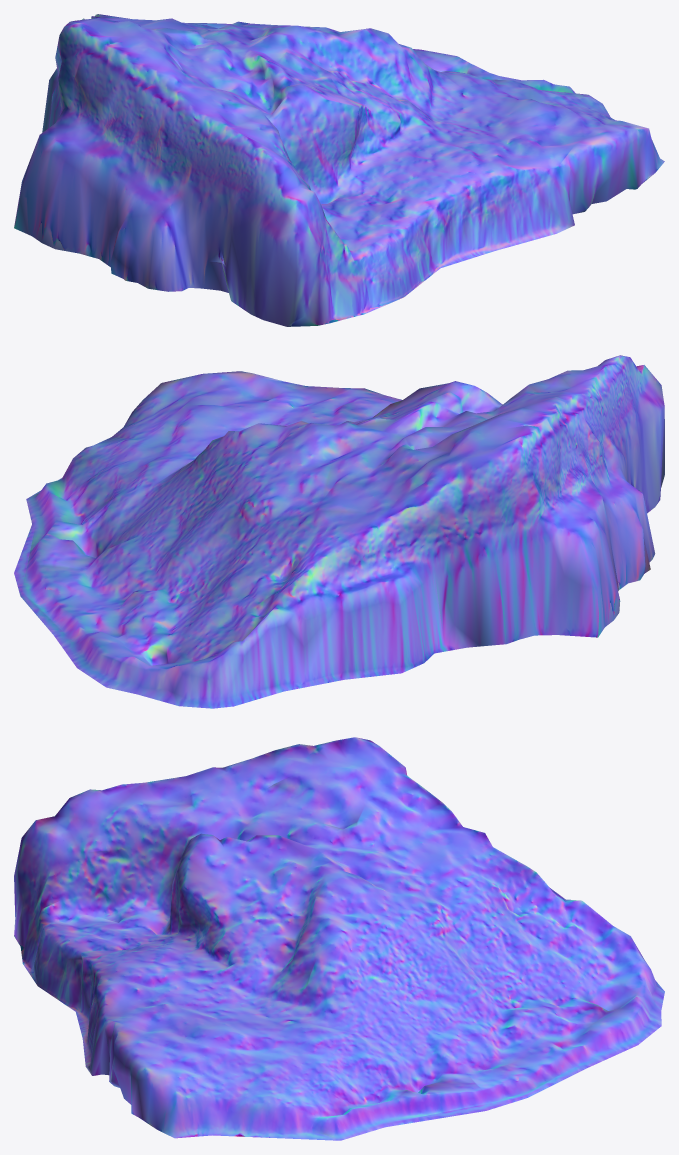
Rendered from RockFormation004.fbx.
3 views of the same model, one above another, from view 1: azimuth 30°, elevation 25°; view 2: azimuth 150°, elevation 25°; view 3: azimuth 270°, elevation 25° (orthographic). The views are drawn at different scales.
Parts seen in each view (by area): view 1: RF04_LOD0; view 2: RF04_LOD0; view 3: RF04_LOD0.
Part boxes in pixels (x1,y1,x2,y2): RF04_LOD0: (14,14,664,326); RF04_LOD0: (14,355,664,708); RF04_LOD0: (14,737,664,1140).
Size of the model in its own units: 1941 by 624 by 2055.
